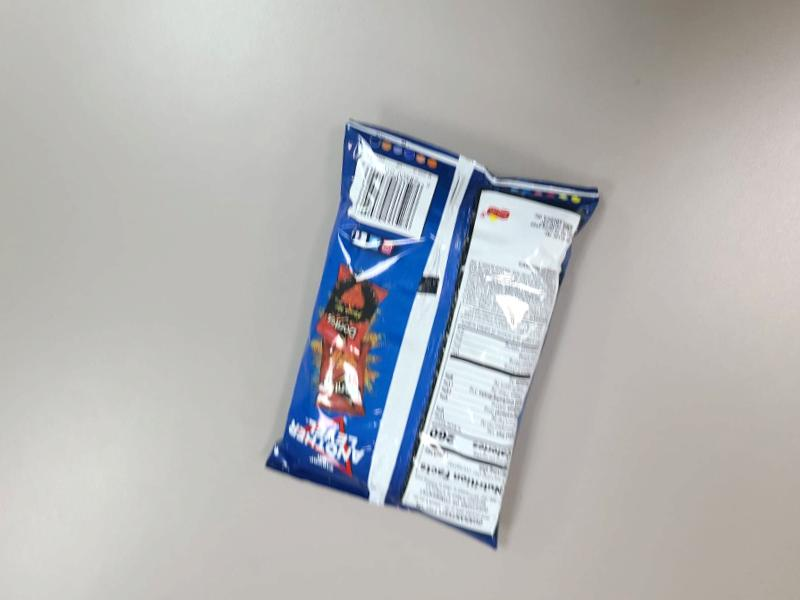doritos: (268, 140, 606, 549)
